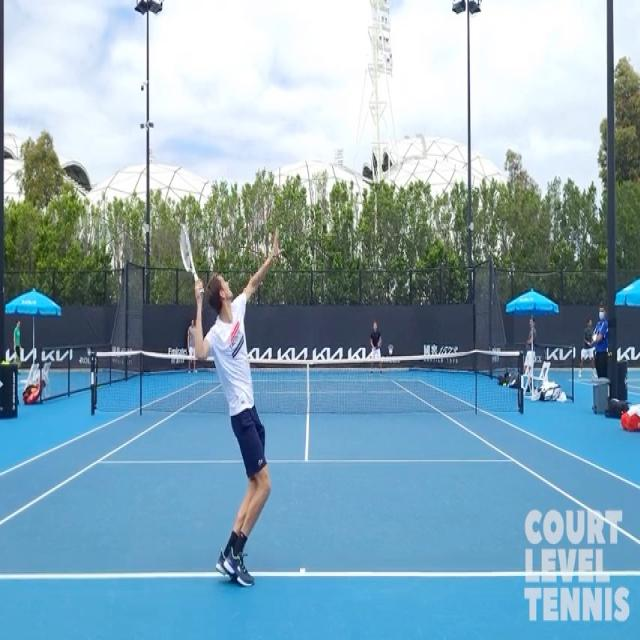serve_hit: (165, 172, 289, 600)
